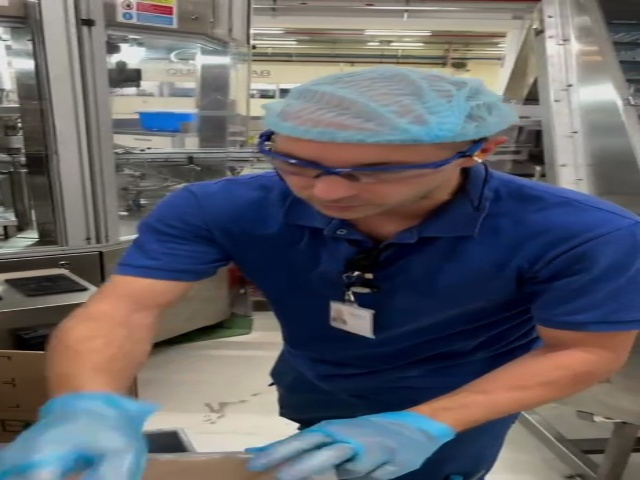Earplug: (462, 139, 507, 166)
Hairnet: (268, 70, 512, 141)
No_Helmet: (274, 70, 505, 137)
No_Vest: (222, 182, 640, 408)
Person: (6, 65, 636, 480)
Safety_Goggles: (258, 142, 481, 179)
